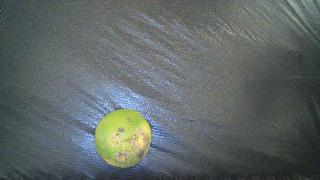DESECHO: (95, 109, 151, 168)
